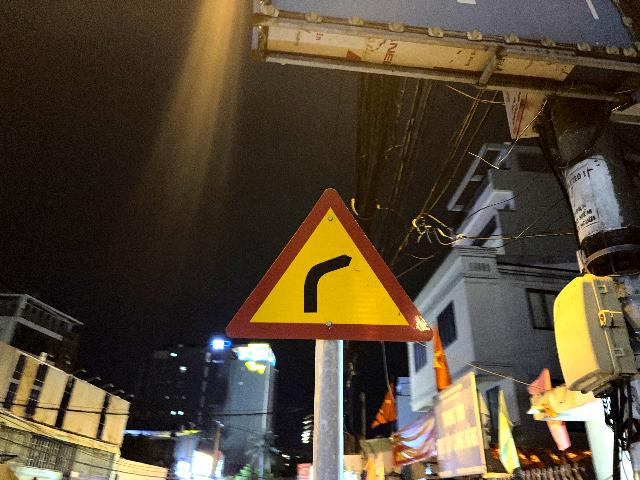cho-ngoat-nguy-hiem-ben-phai: (225, 186, 436, 343)
